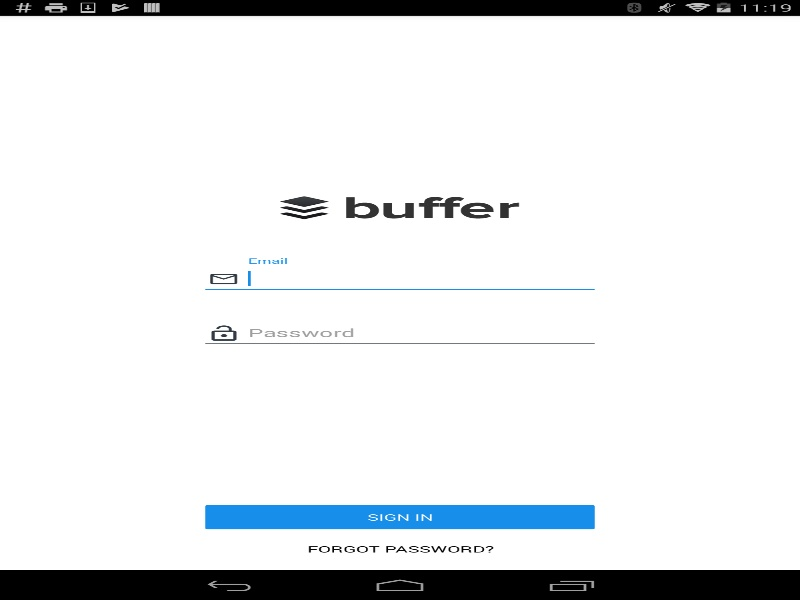Button: (200, 501, 600, 533)
Input: (200, 263, 600, 294), (200, 318, 600, 349)
